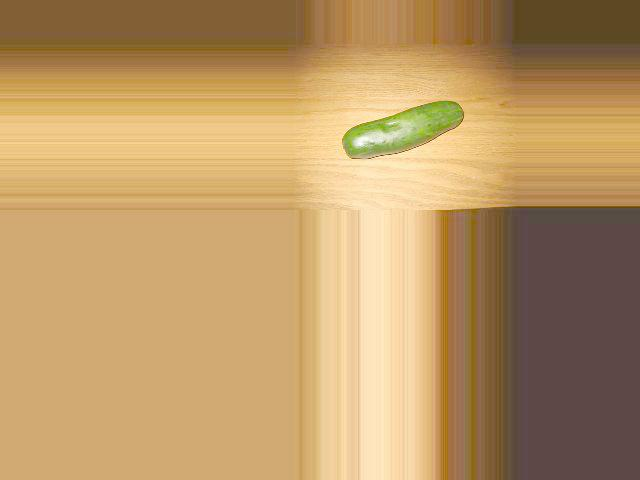cucumber: (344, 101, 464, 159)
